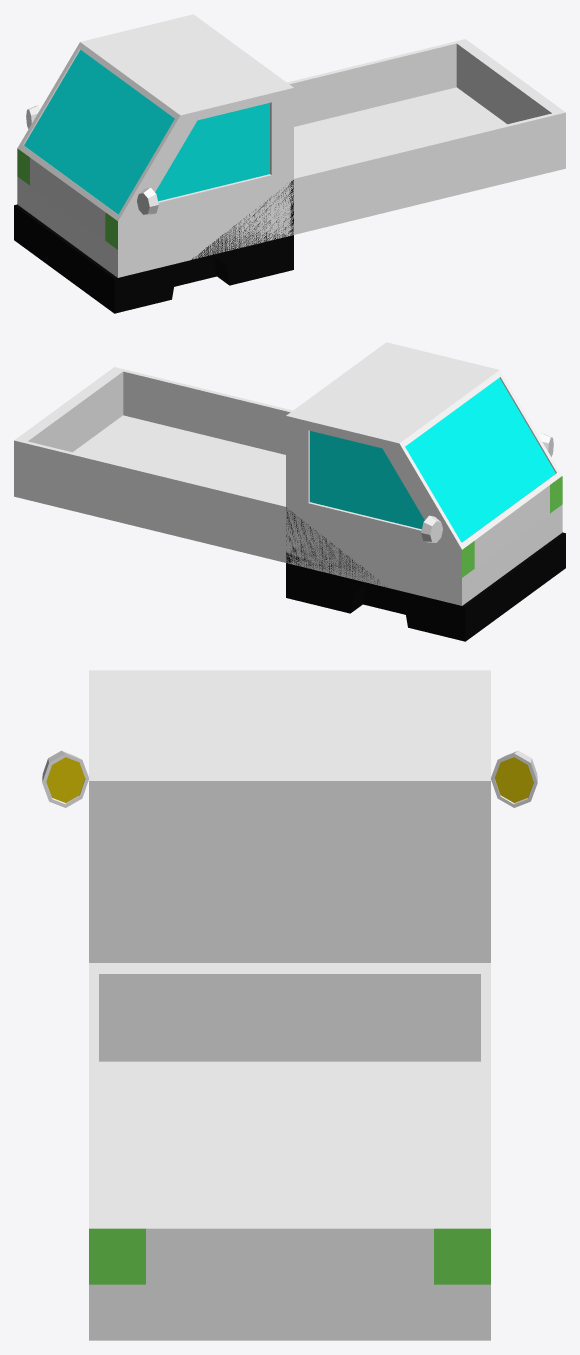
Rendered from Porter.fbx.
The picture shows the model from 3 angles, top to bottom: view 1: azimuth 30°, elevation 25°; view 2: azimuth 150°, elevation 25°; view 3: azimuth 270°, elevation 25°; orthographic projection. The views are drawn at different scales.
Visible parts, largest first — view 1: Cube; view 2: Cube; view 3: Cube.
Part boxes in pixels (<box>): Cube: <box>14,14,565,313</box>; Cube: <box>14,342,565,641</box>; Cube: <box>42,670,537,1340</box>.
Size of the model in its own units: 519 by 200 by 247.
